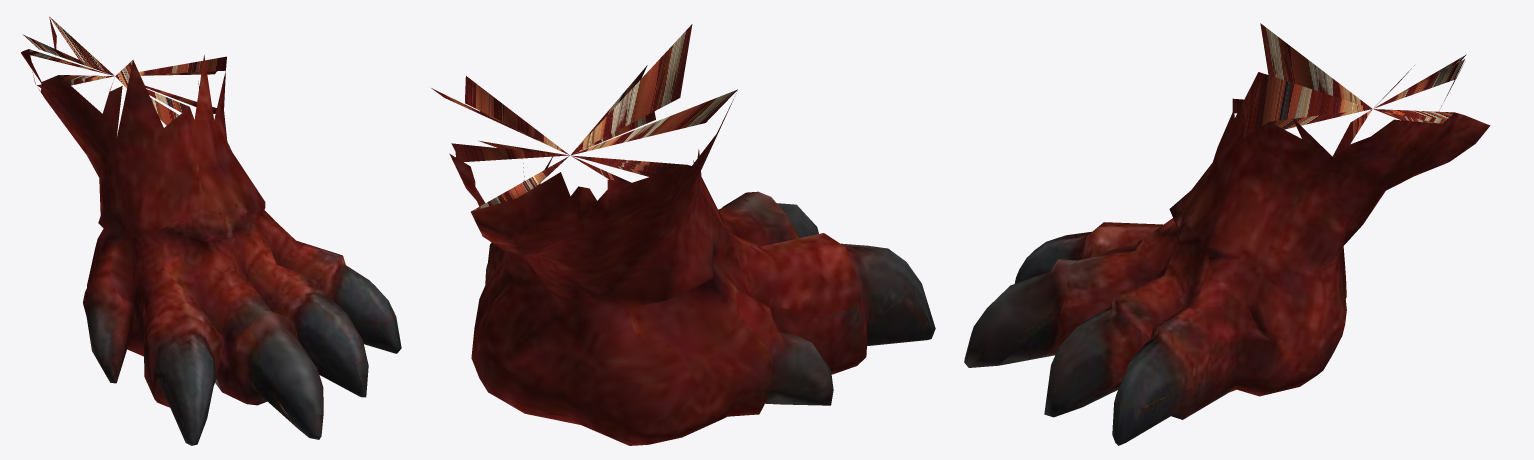
The model's file is dragon_leg_fposx.glb.
3 views of the same model, side by side, from view 1: azimuth 30°, elevation 25°; view 2: azimuth 150°, elevation 25°; view 3: azimuth 270°, elevation 25° (orthographic). The views are drawn at different scales.
Bounding box in the file's own units: 3.21 × 3.42 × 5.31.
1 material, 1 textured.
